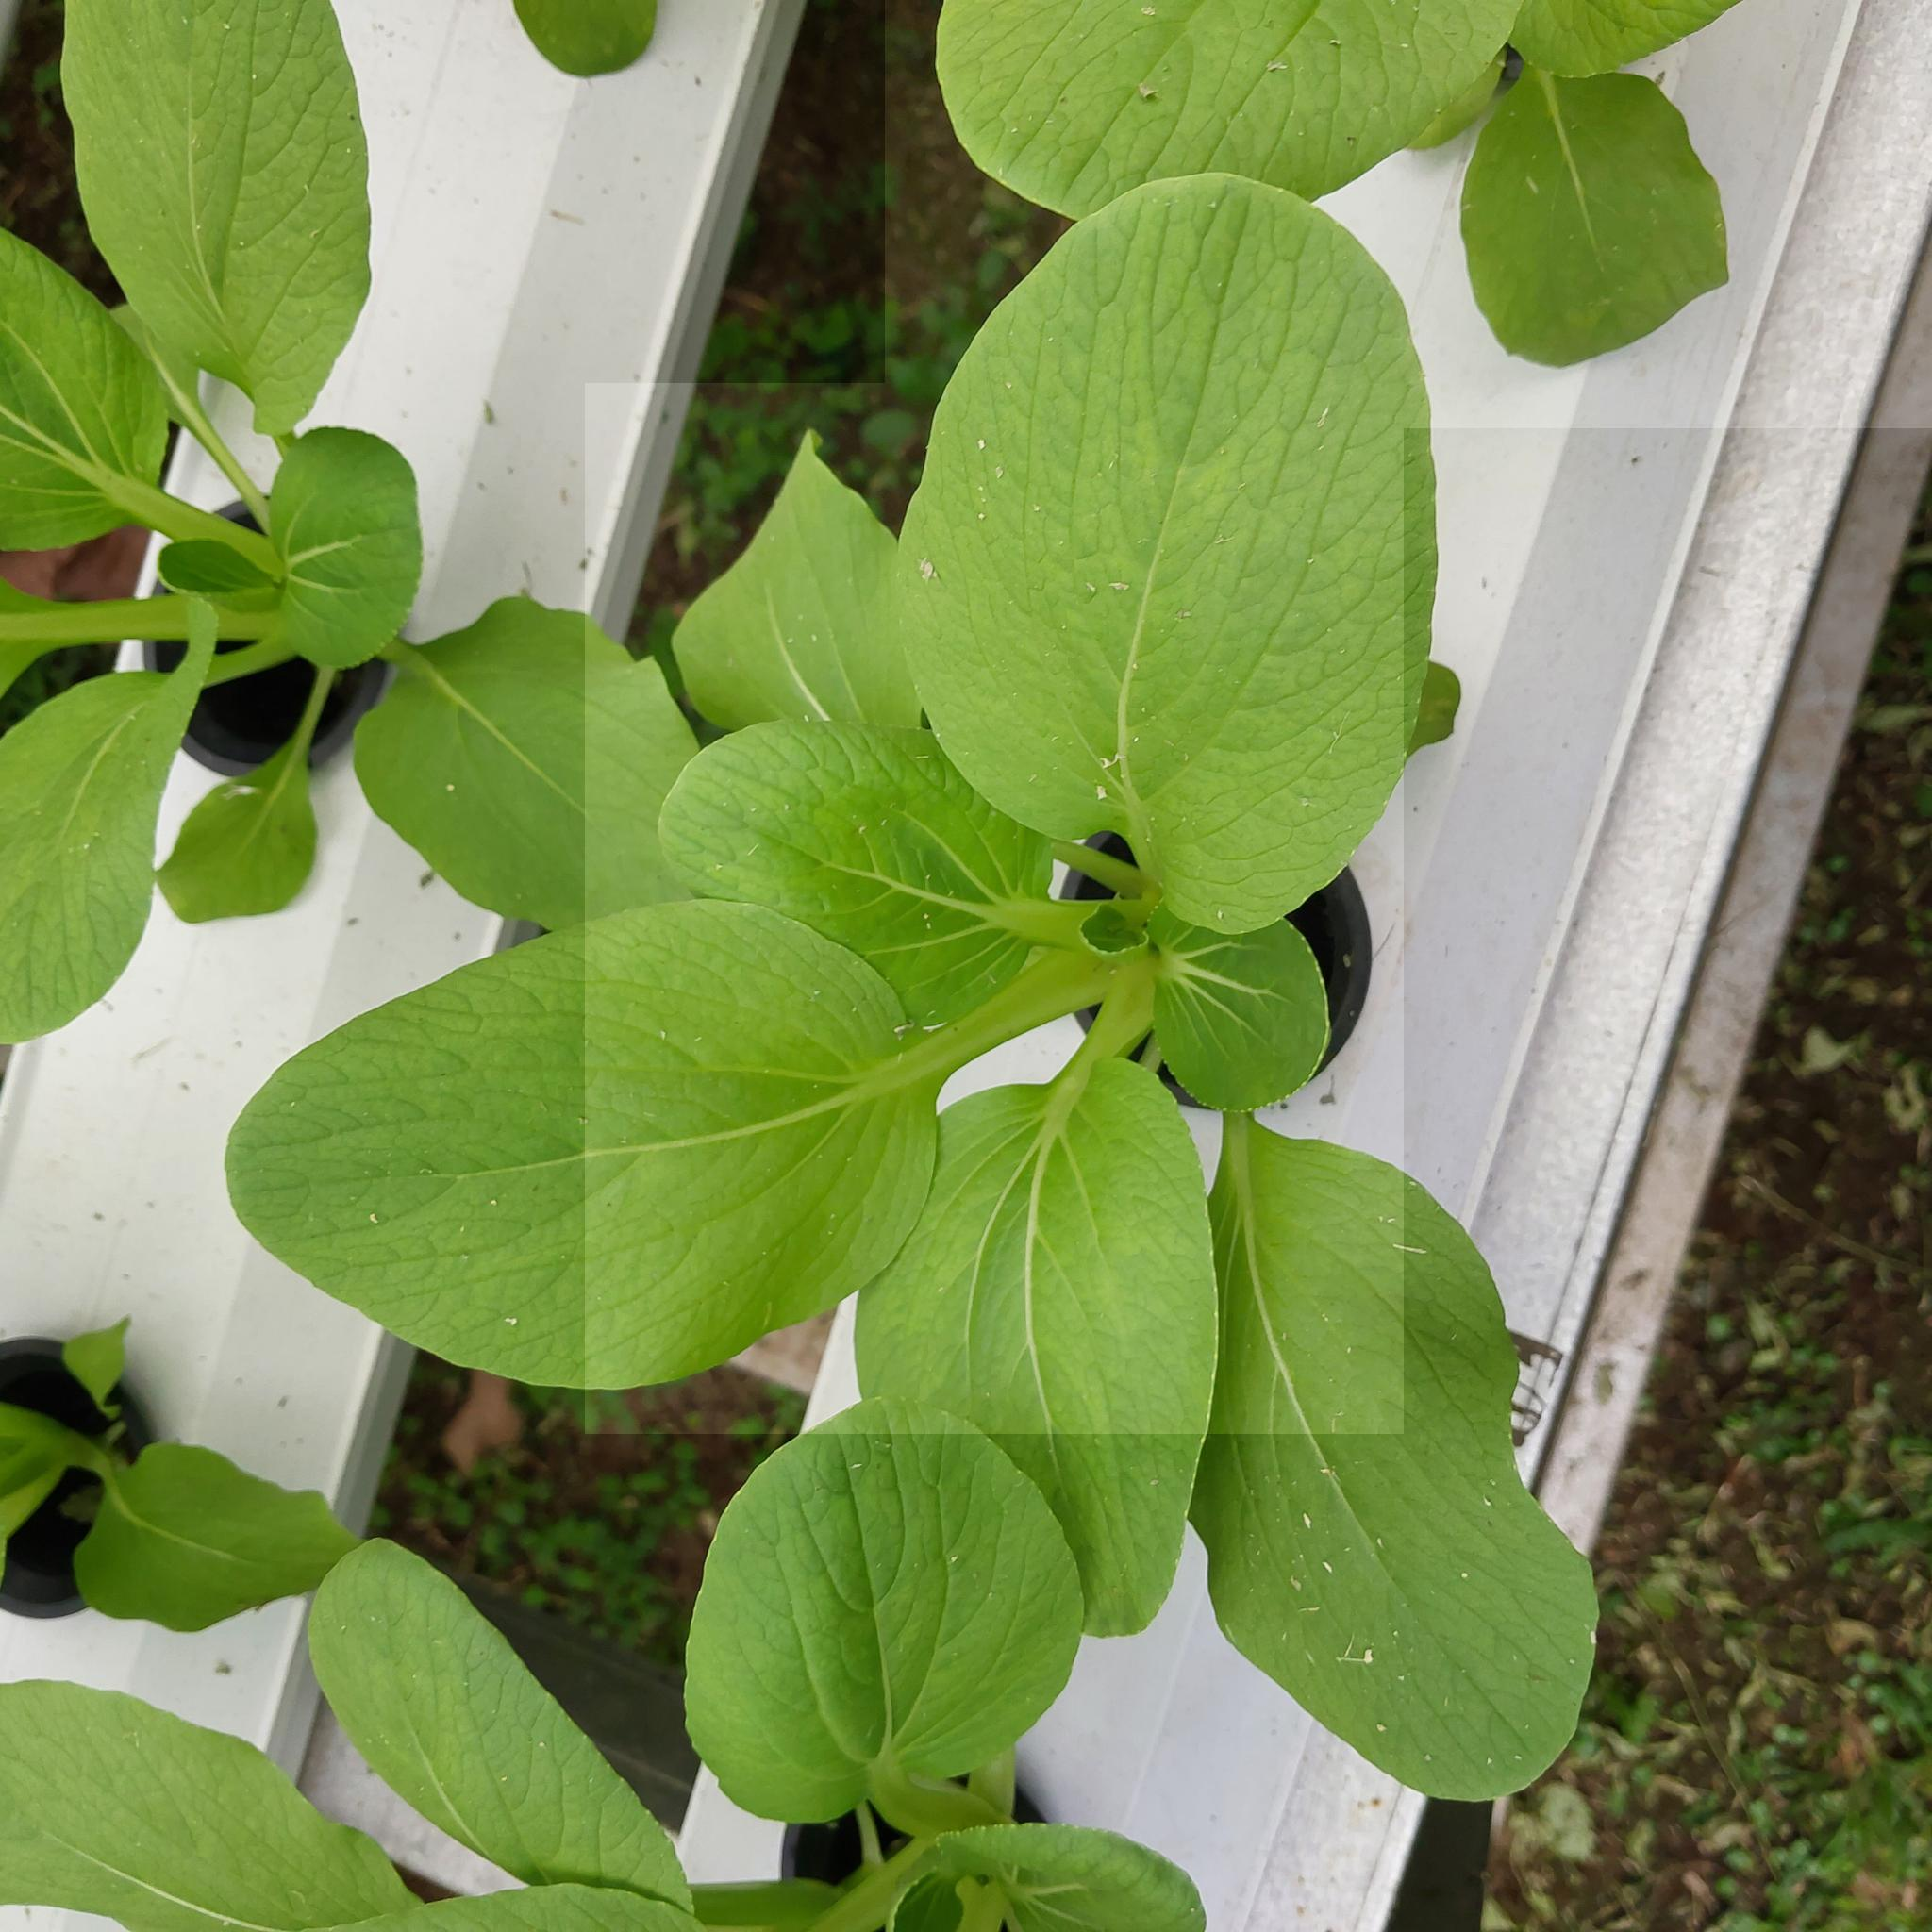Healthy-Pechay: (267, 0, 1835, 1879), (952, 173, 1419, 952), (0, 1606, 833, 1927), (701, 1403, 1054, 1822), (53, 7, 373, 467), (350, 602, 706, 934), (964, 2, 1518, 212), (676, 727, 1037, 1044), (0, 593, 218, 1007), (1458, 67, 1734, 368), (671, 432, 913, 755), (0, 214, 179, 564), (71, 1442, 363, 1633), (720, 97, 909, 379), (157, 660, 331, 913), (249, 428, 426, 672), (589, 1083, 899, 1169), (1111, 488, 1182, 837), (1529, 67, 1603, 276), (1046, 837, 1154, 904), (62, 1318, 131, 1412)
